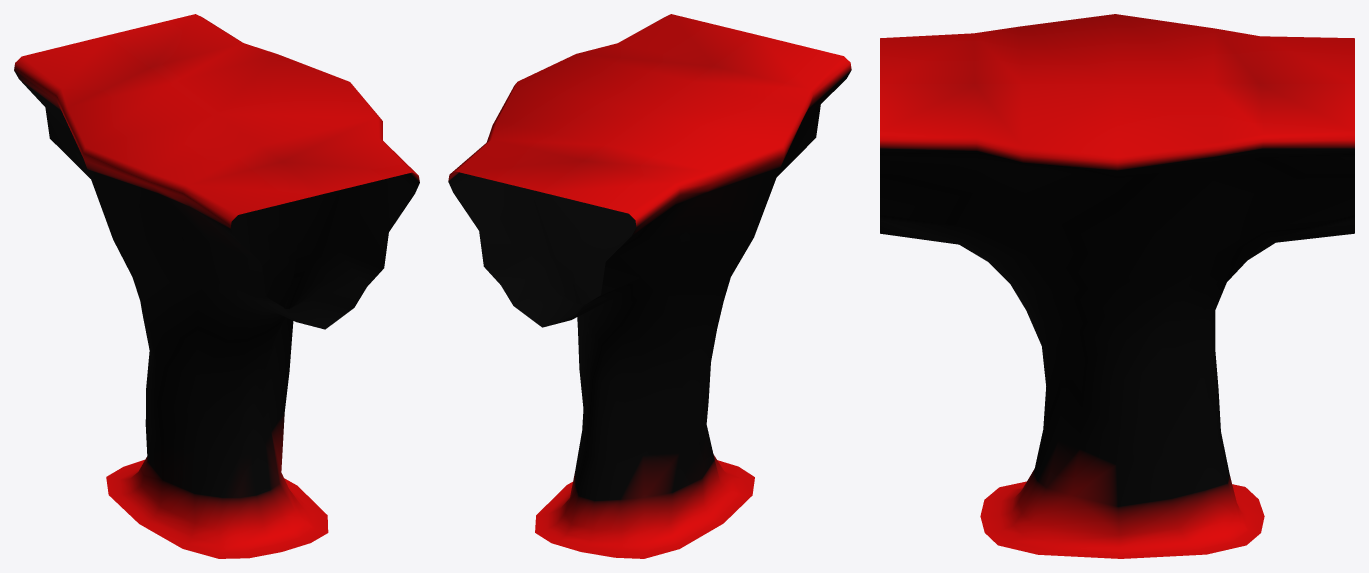
Rendered from CrossingCliff01D 2M Background.fbx.
3 renders of one model, left to right at view 1: azimuth 30°, elevation 25°; view 2: azimuth 150°, elevation 25°; view 3: azimuth 270°, elevation 25°, orthographic. The views are drawn at different scales.
Visible parts, largest first — view 1: CrossingCliff01D 2M Background; view 2: CrossingCliff01D 2M Background; view 3: CrossingCliff01D 2M Background.
Boxes of the visible parts, left/top/right/bottom form: CrossingCliff01D 2M Background: left=14, top=14, right=419, bottom=558; CrossingCliff01D 2M Background: left=448, top=14, right=851, bottom=558; CrossingCliff01D 2M Background: left=880, top=14, right=1354, bottom=558.
Size of the model in its own units: 1.44 by 2 by 2.
